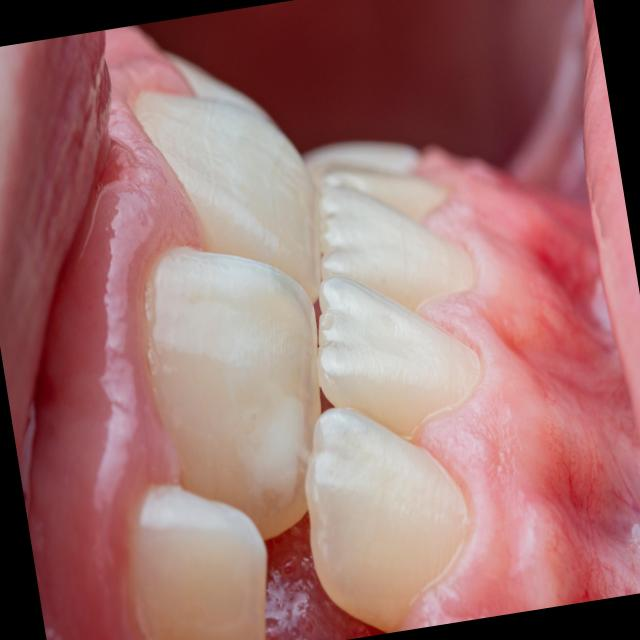Tooth: (143, 245, 322, 540), (135, 90, 321, 305), (304, 408, 469, 632), (318, 277, 481, 440), (135, 487, 267, 640), (320, 185, 472, 312)
